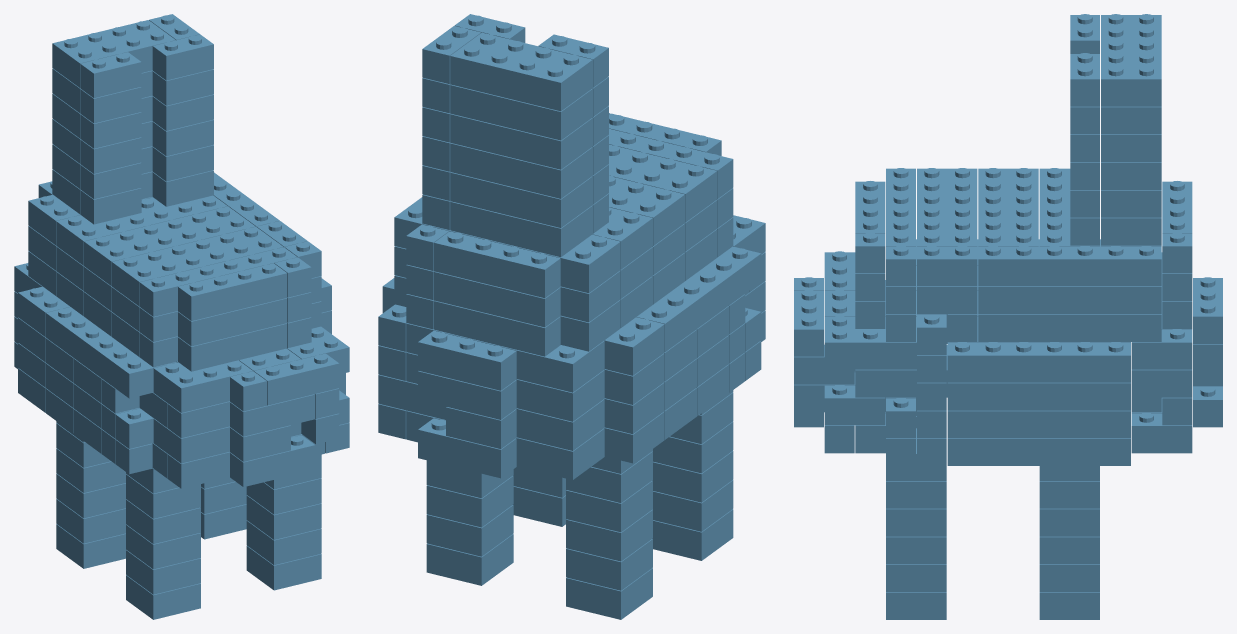
The model's file is 259_vessel_L4.glb.
3 renders of one model, left to right at view 1: azimuth 30°, elevation 25°; view 2: azimuth 150°, elevation 25°; view 3: azimuth 270°, elevation 25°, orthographic. The views are drawn at different scales.
Size of the model in its own units: 8.98 by 19.13 by 13.98.
